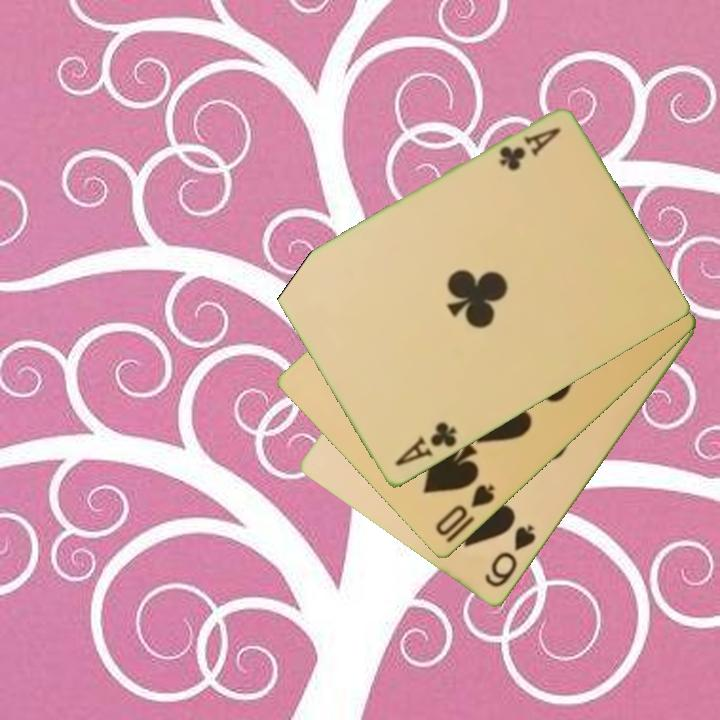10s: (431, 480, 498, 540)
6s: (481, 521, 539, 591)
Ac: (392, 418, 460, 470), (495, 124, 564, 175)
